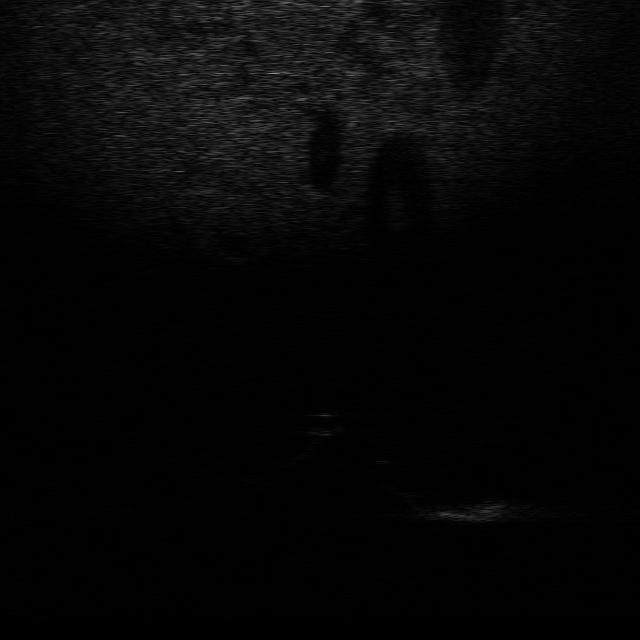ball: (297, 403, 345, 438)
metal bucket: (425, 492, 530, 530)
tyre: (366, 458, 439, 498)
